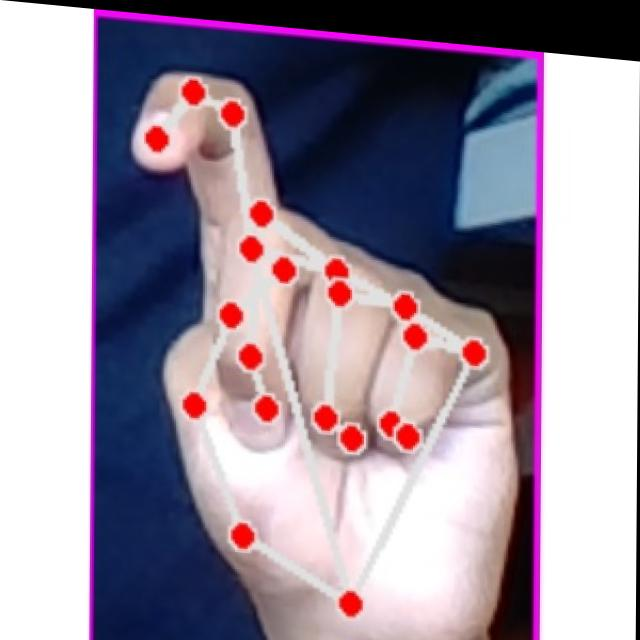Z: (122, 56, 525, 640)
